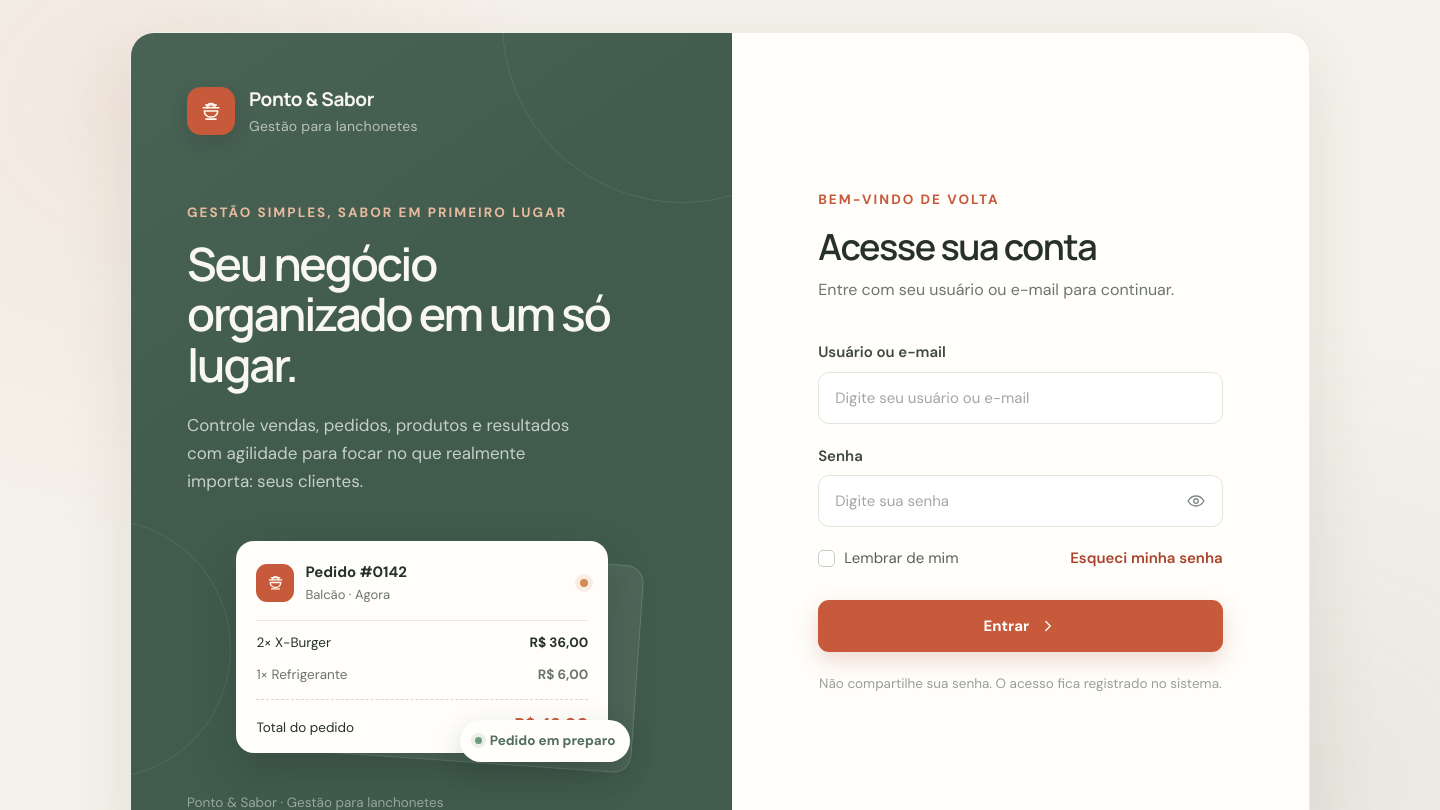
Test: LoginPage › mostra a mensagem da API quando a senha está errada
The image size is (1440, 810).
In the field labelled "Usuário ou e-mail": (1020, 398) [818,372,1223,424], type "fernanda"
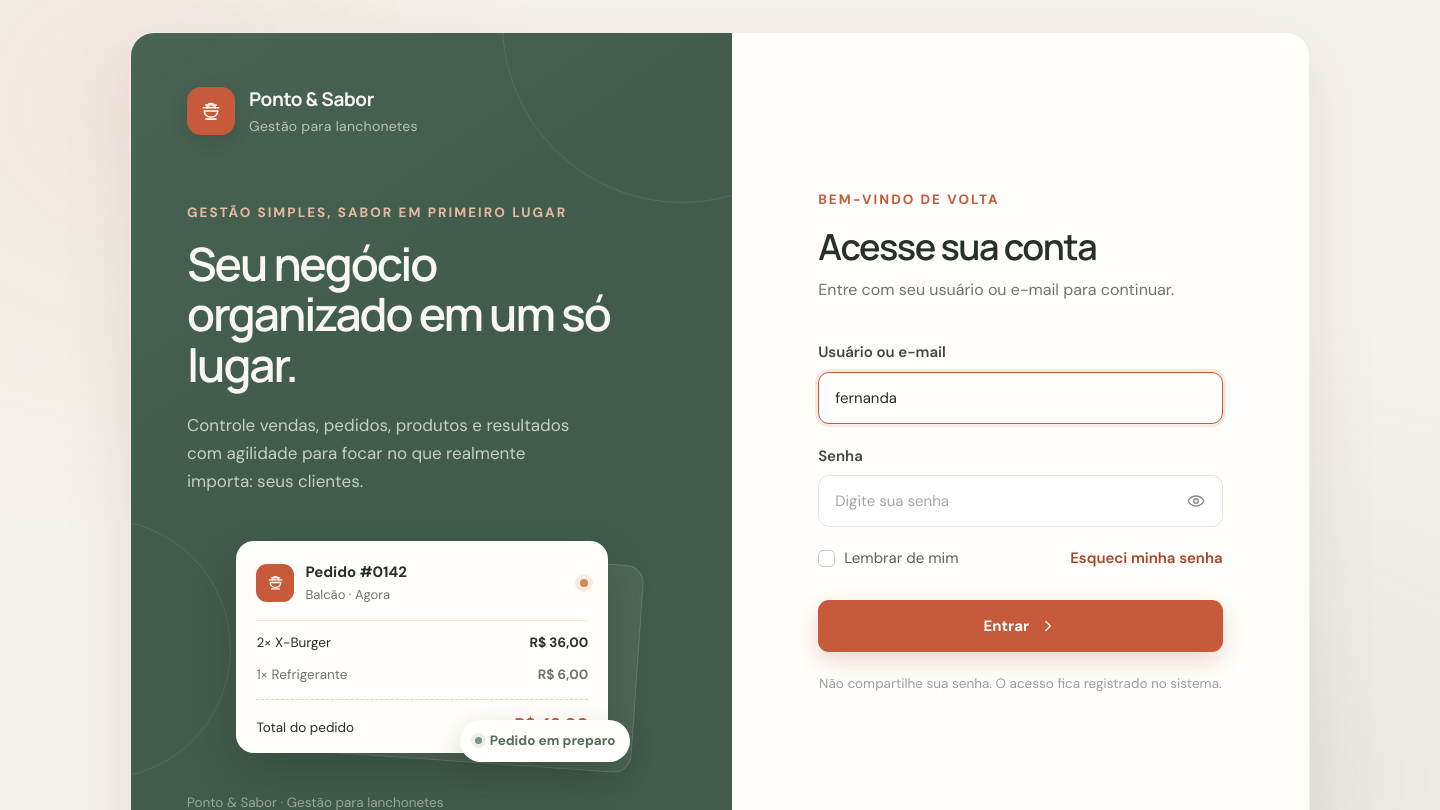
In the password field labelled "Senha": (1020, 501) [818,475,1223,527], type "errada"
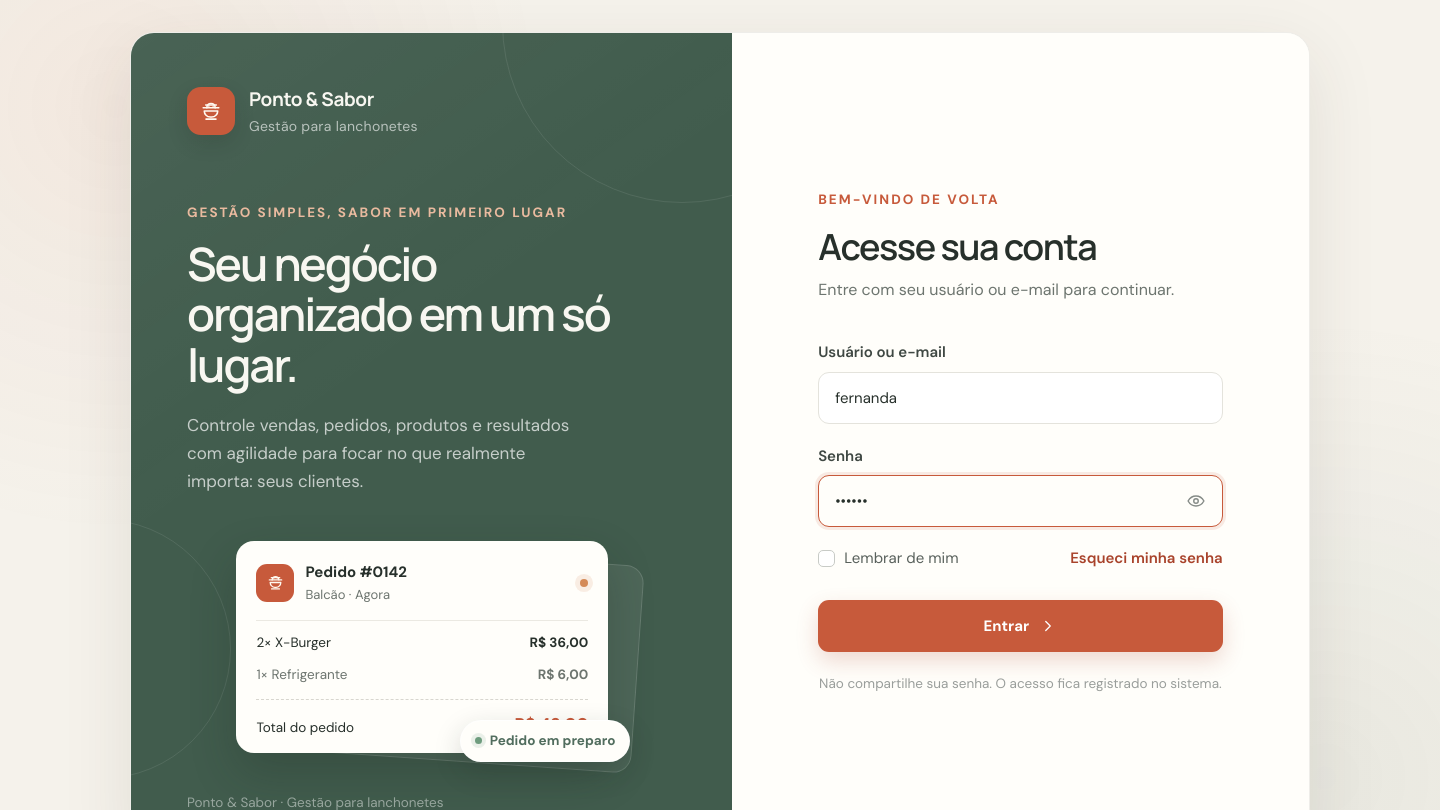
Click the button "Entrar": (1020, 626) [818,600,1223,652]
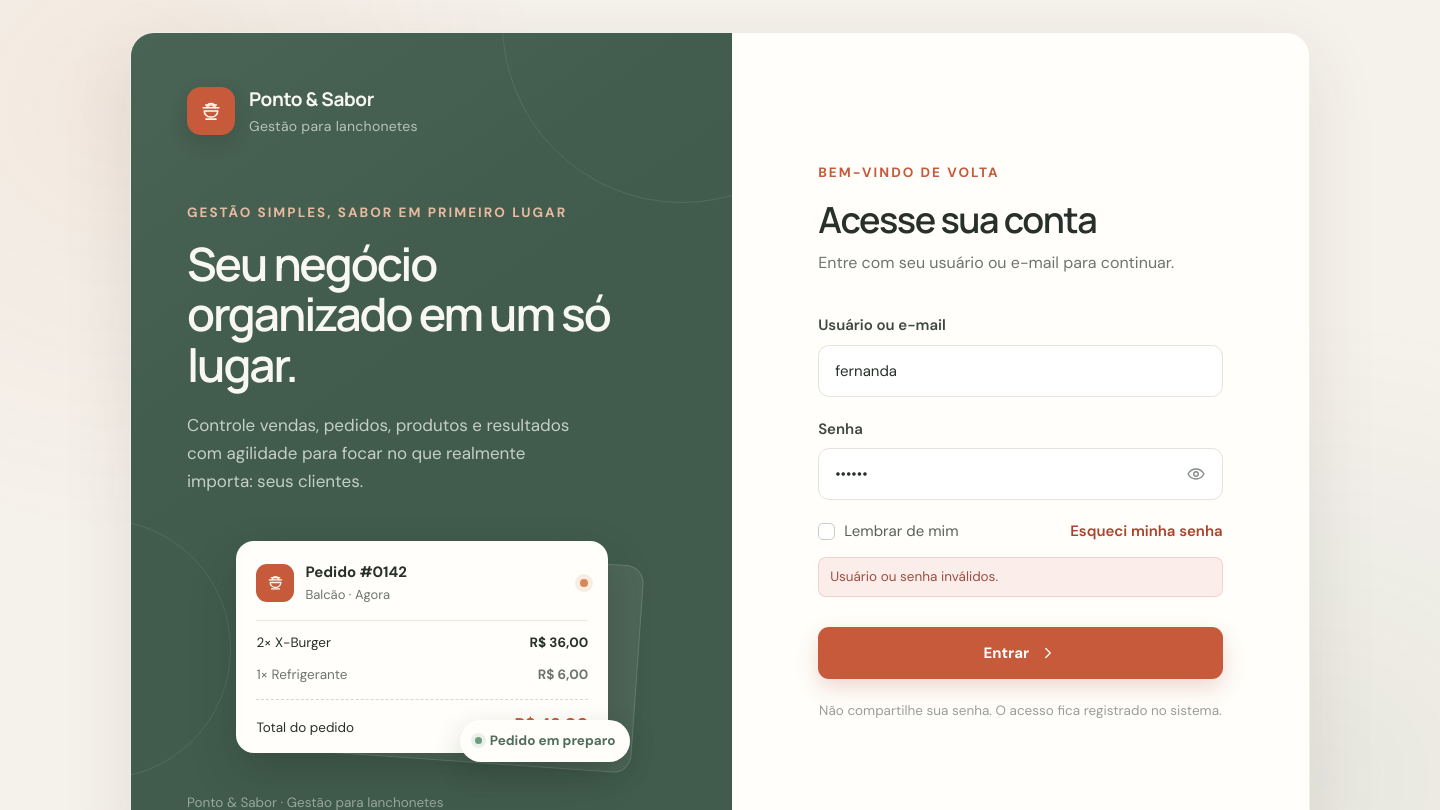
Expected: the button "Entrar" is enabled, [818,627,1223,679]
Now the message reads "Usuário ou senha inválidos.", box [830,568,998,585]
